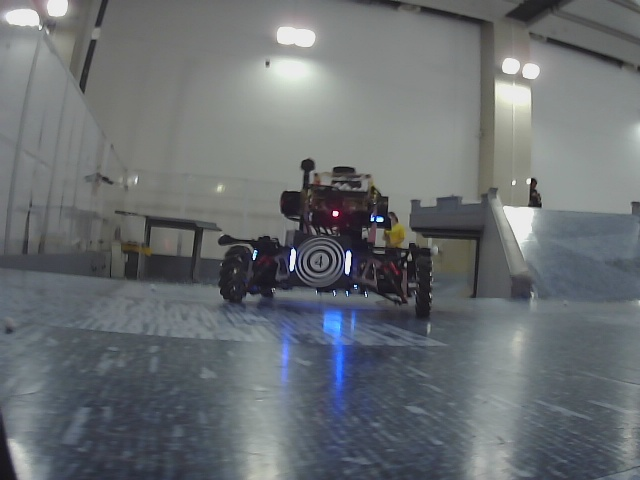lamp: (288, 249, 295, 272), (345, 252, 351, 275)
pair: (289, 249, 350, 276)
